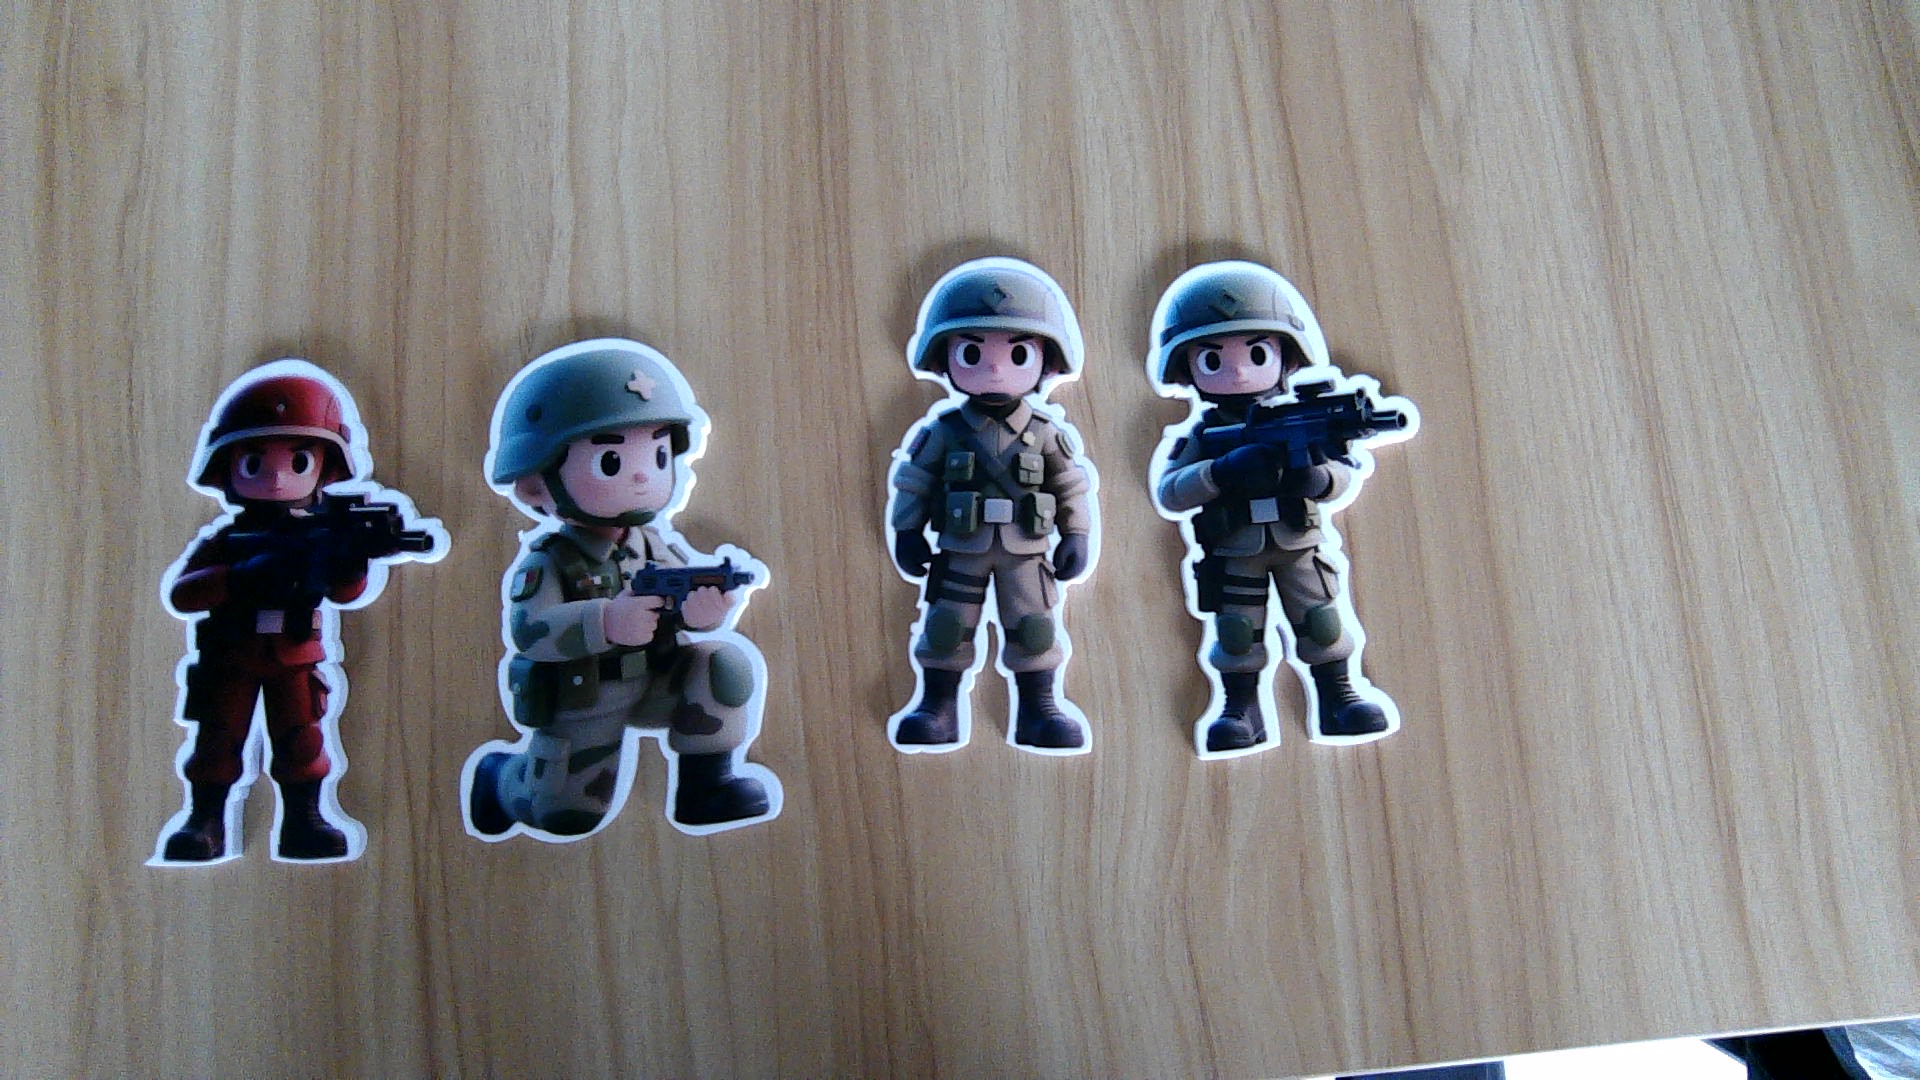友军: (458, 531, 785, 843), (1149, 400, 1418, 760), (872, 405, 1106, 767)
敌人1: (140, 516, 436, 866)
